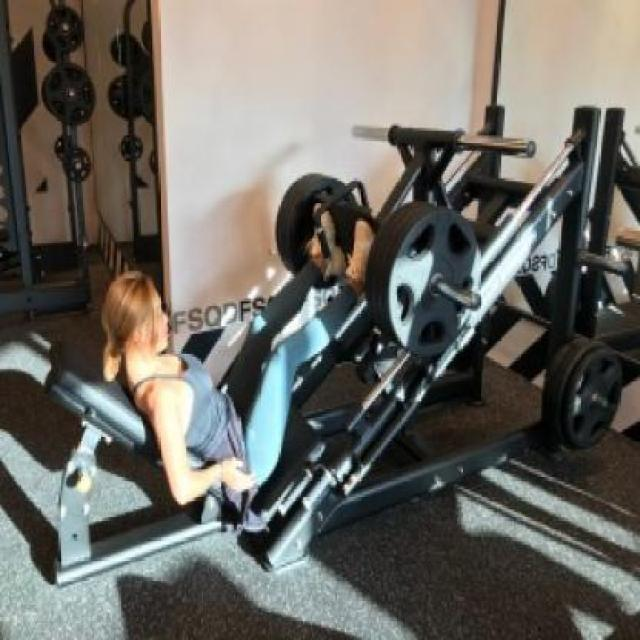leg press: (1, 54, 634, 572)
